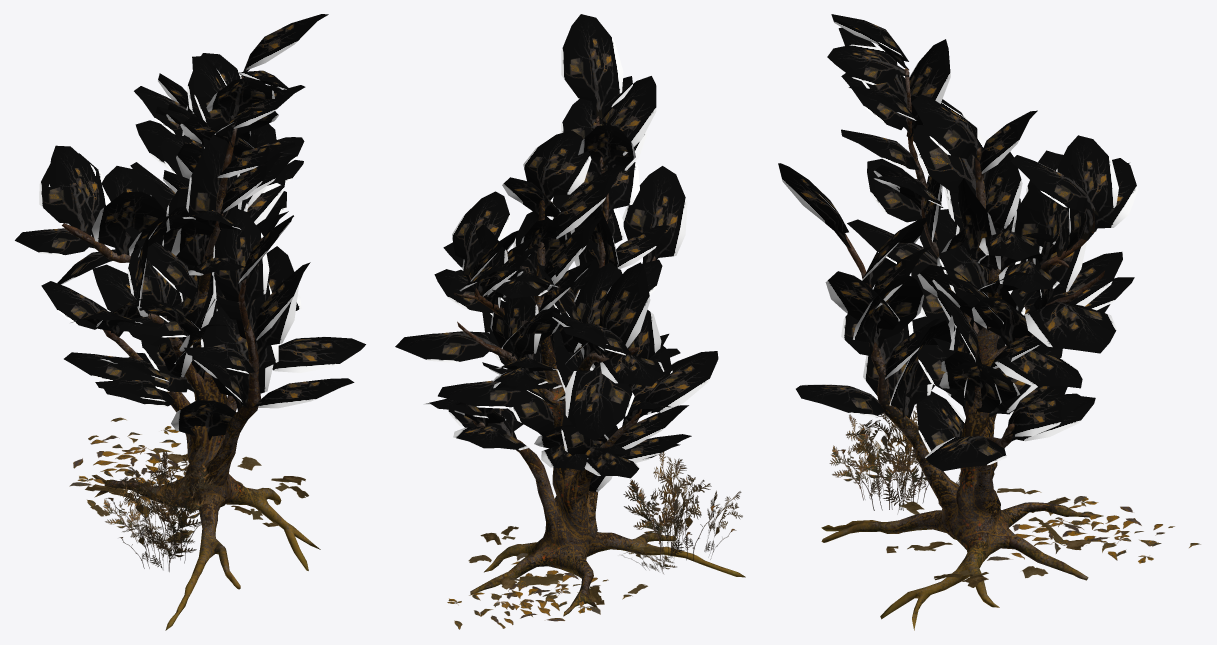
The model's file is dead-tree1.glb.
3 renders of one model, left to right at view 1: azimuth 30°, elevation 25°; view 2: azimuth 150°, elevation 25°; view 3: azimuth 270°, elevation 25°, orthographic. The views are drawn at different scales.
Visible parts, largest first — view 1: leaves, tree1, plant1_1, dryleaves_1, wooddebris; view 2: leaves, tree1, plant1_1, dryleaves_1, wooddebris; view 3: leaves, tree1, plant1_1, dryleaves_1, wooddebris.
Boxes of the visible parts, x1=… form: leaves: x1=15, y1=14, x2=365, y2=440; tree1: x1=62, y1=76, x2=320, y2=630; plant1_1: x1=102, y1=445, x2=216, y2=571; dryleaves_1: x1=69, y1=417, x2=242, y2=509; wooddebris: x1=85, y1=453, x2=308, y2=543; leaves: x1=395, y1=14, x2=718, y2=492; tree1: x1=454, y1=116, x2=745, y2=616; plant1_1: x1=621, y1=452, x2=742, y2=573; dryleaves_1: x1=447, y1=553, x2=632, y2=629; wooddebris: x1=468, y1=526, x2=664, y2=604; leaves: x1=778, y1=14, x2=1138, y2=471; tree1: x1=821, y1=68, x2=1104, y2=630; plant1_1: x1=829, y1=406, x2=960, y2=514; dryleaves_1: x1=987, y1=490, x2=1200, y2=563; wooddebris: x1=886, y1=488, x2=1090, y2=587.
Size of the model in its own units: 208 by 395 by 254.
5 materials, 5 textured.
